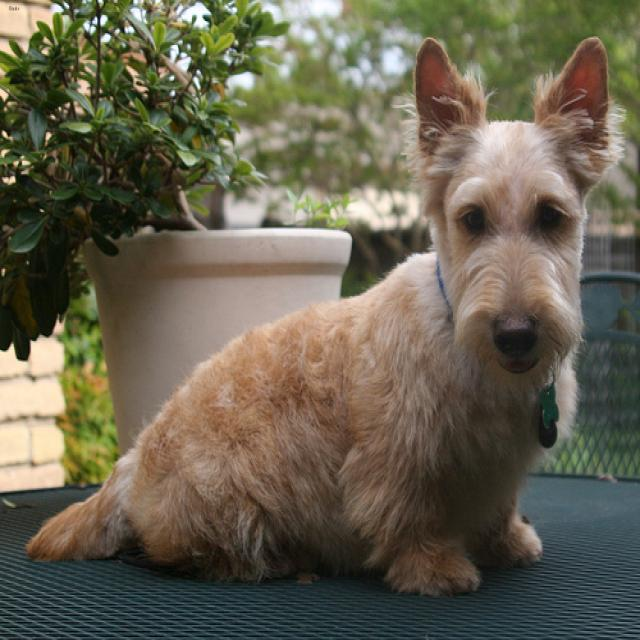dog-scottish_terrier: (18, 29, 630, 599)
